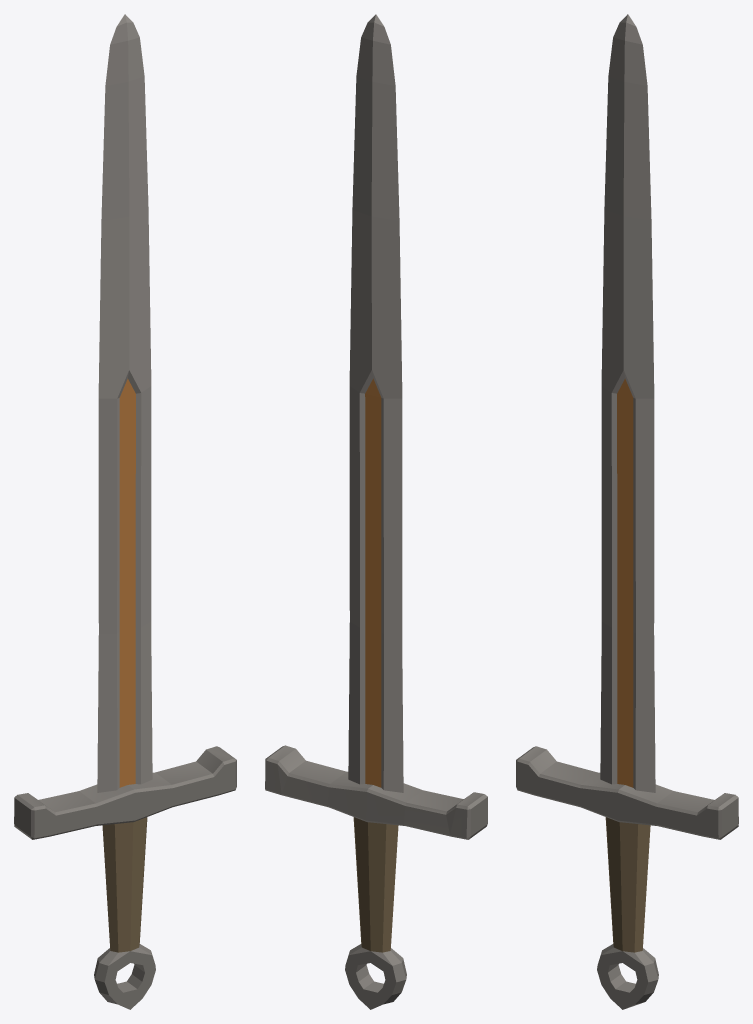
The model's file is SM_pwe_fantasy_sword_02.fbx.
The picture shows the model from 3 angles, left to right: view 1: azimuth 30°, elevation 25°; view 2: azimuth 150°, elevation 25°; view 3: azimuth 330°, elevation 25°; orthographic projection.
Visible parts, largest first — view 1: SM_pwe_fantasy_sword_02; view 2: SM_pwe_fantasy_sword_02; view 3: SM_pwe_fantasy_sword_02.
Part boxes in pixels (box(x1,y1,x2,y2)): SM_pwe_fantasy_sword_02: box(14, 14, 236, 1009); SM_pwe_fantasy_sword_02: box(265, 14, 487, 1009); SM_pwe_fantasy_sword_02: box(516, 14, 738, 1009).
Bounding box in the file's own units: 21.97 × 101 × 3.76.
